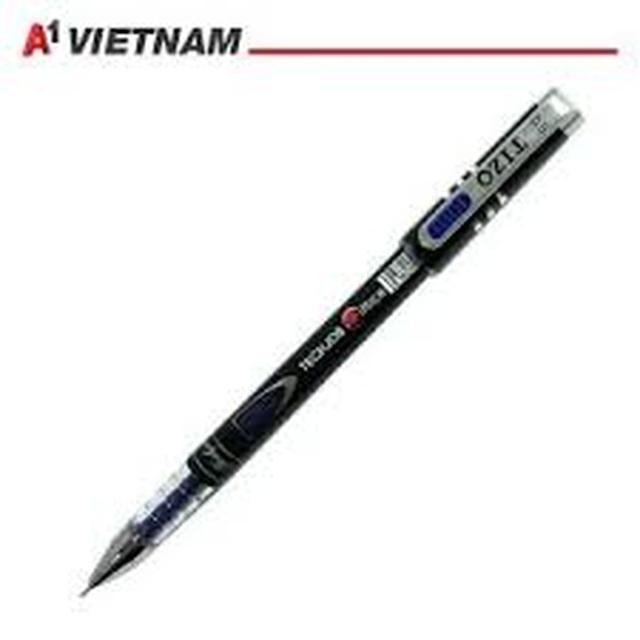pen: (79, 85, 592, 599)
